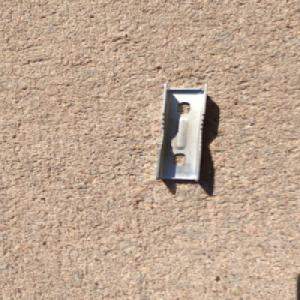ClampPart: (154, 82, 211, 183)
